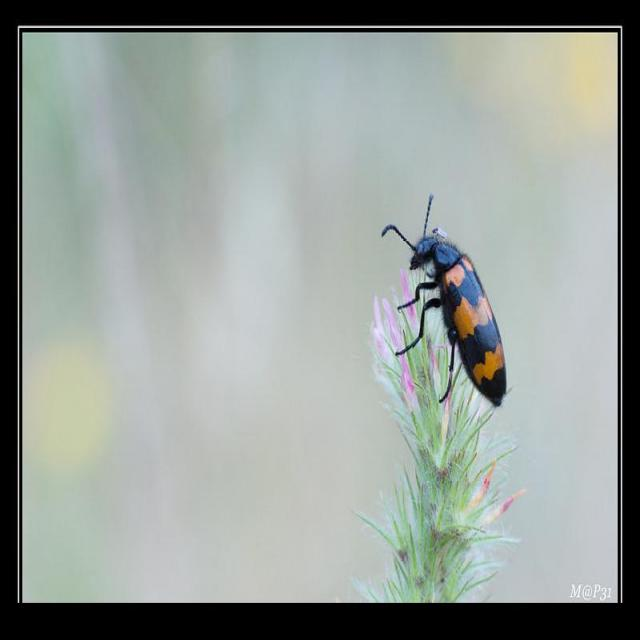BlisterBeetle-Adult-: (374, 185, 520, 424)
